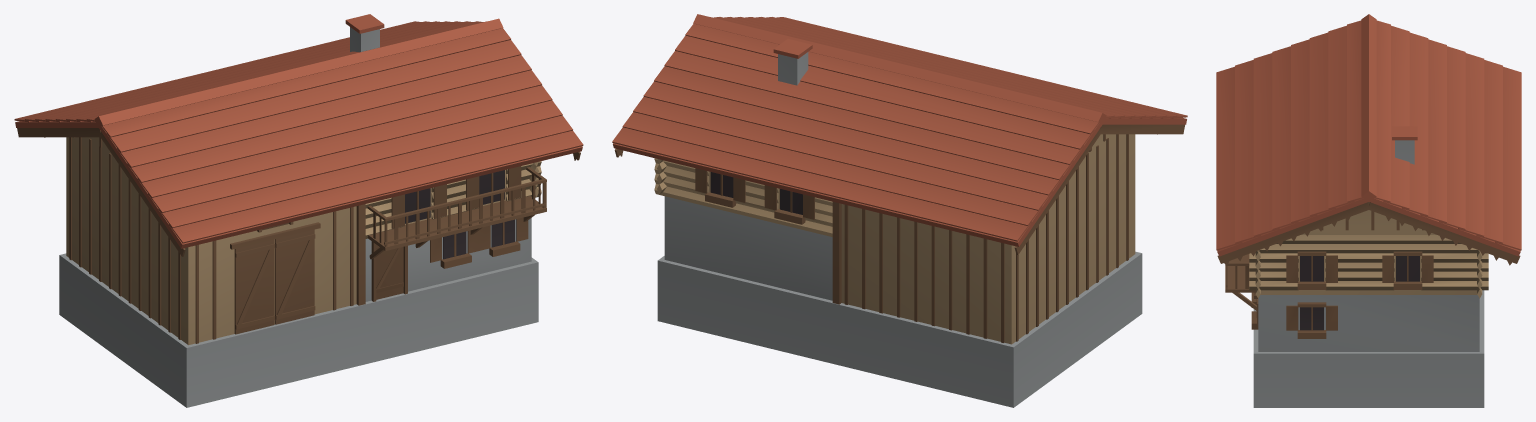
The model's file is house_4.glb.
3 views of the same model, side by side, from view 1: azimuth 30°, elevation 25°; view 2: azimuth 150°, elevation 25°; view 3: azimuth 270°, elevation 25° (orthographic). The views are drawn at different scales.
Parts seen in each view (by area): view 1: house_4; view 2: house_4; view 3: house_4.
Part boxes in pixels (<box>): house_4: <box>14,14,583,407</box>; house_4: <box>612,14,1187,407</box>; house_4: <box>1216,14,1521,407</box>.
Bounding box in the file's own units: 14 × 8.71 × 10.21.
